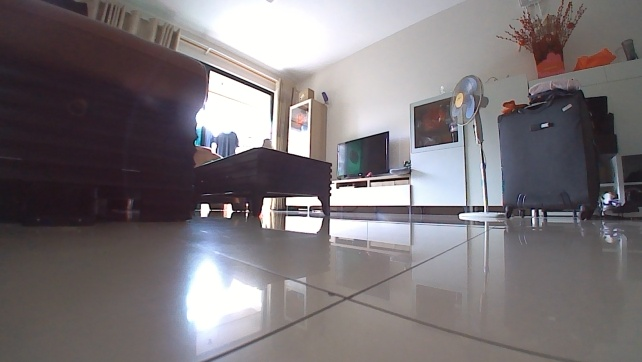TV_stand: (279, 168, 470, 214)
chair_base: (456, 206, 508, 220)
sofe1: (0, 0, 212, 224)
tea_table: (196, 143, 333, 218)
